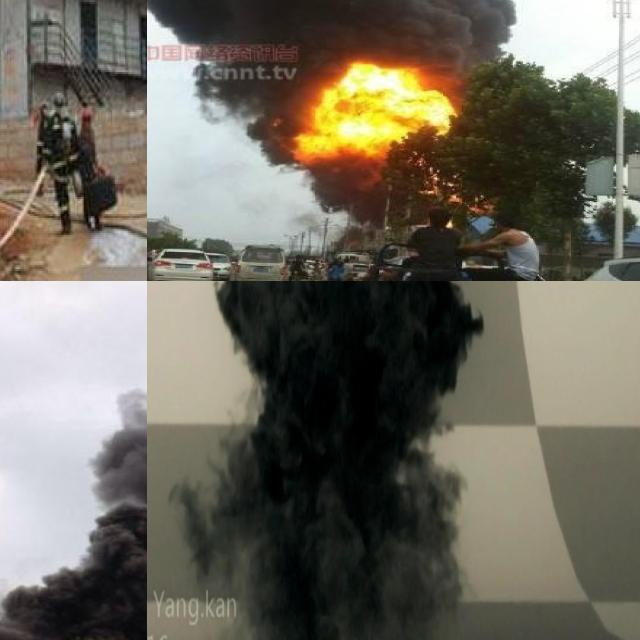fire: (293, 60, 459, 158)
smoke: (171, 281, 483, 640), (147, 0, 516, 214), (0, 281, 147, 640)
